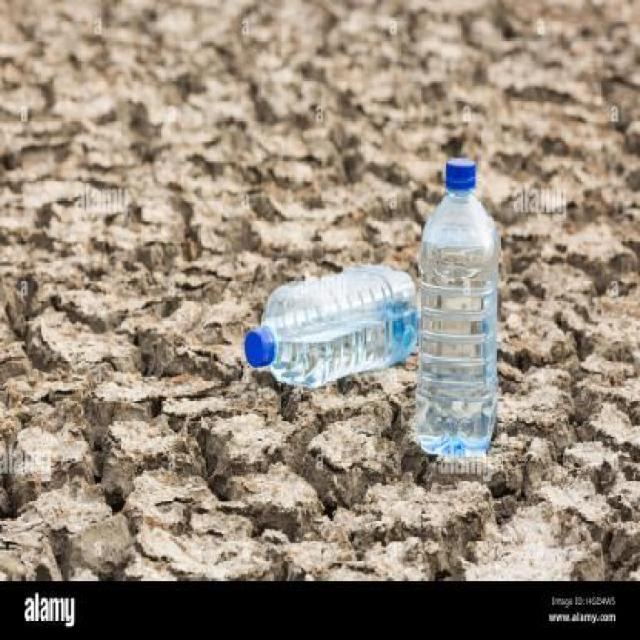bottle: (406, 164, 515, 455), (220, 266, 423, 392)
